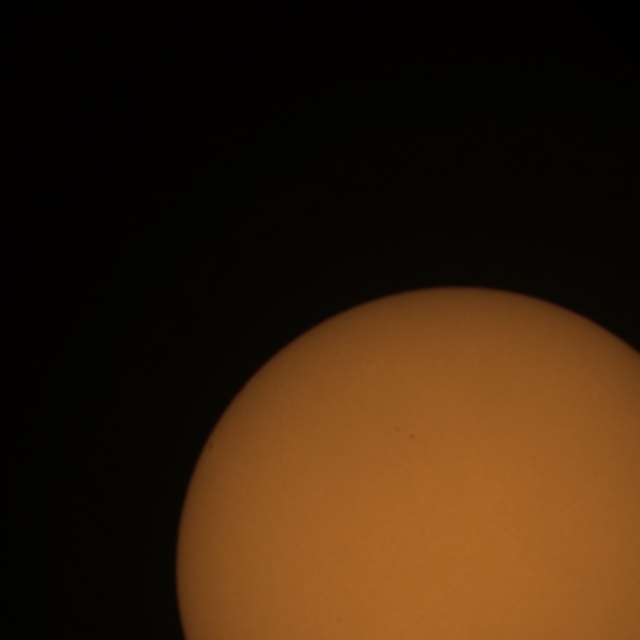sunspot: (394, 425, 417, 442), (408, 432, 416, 442)
